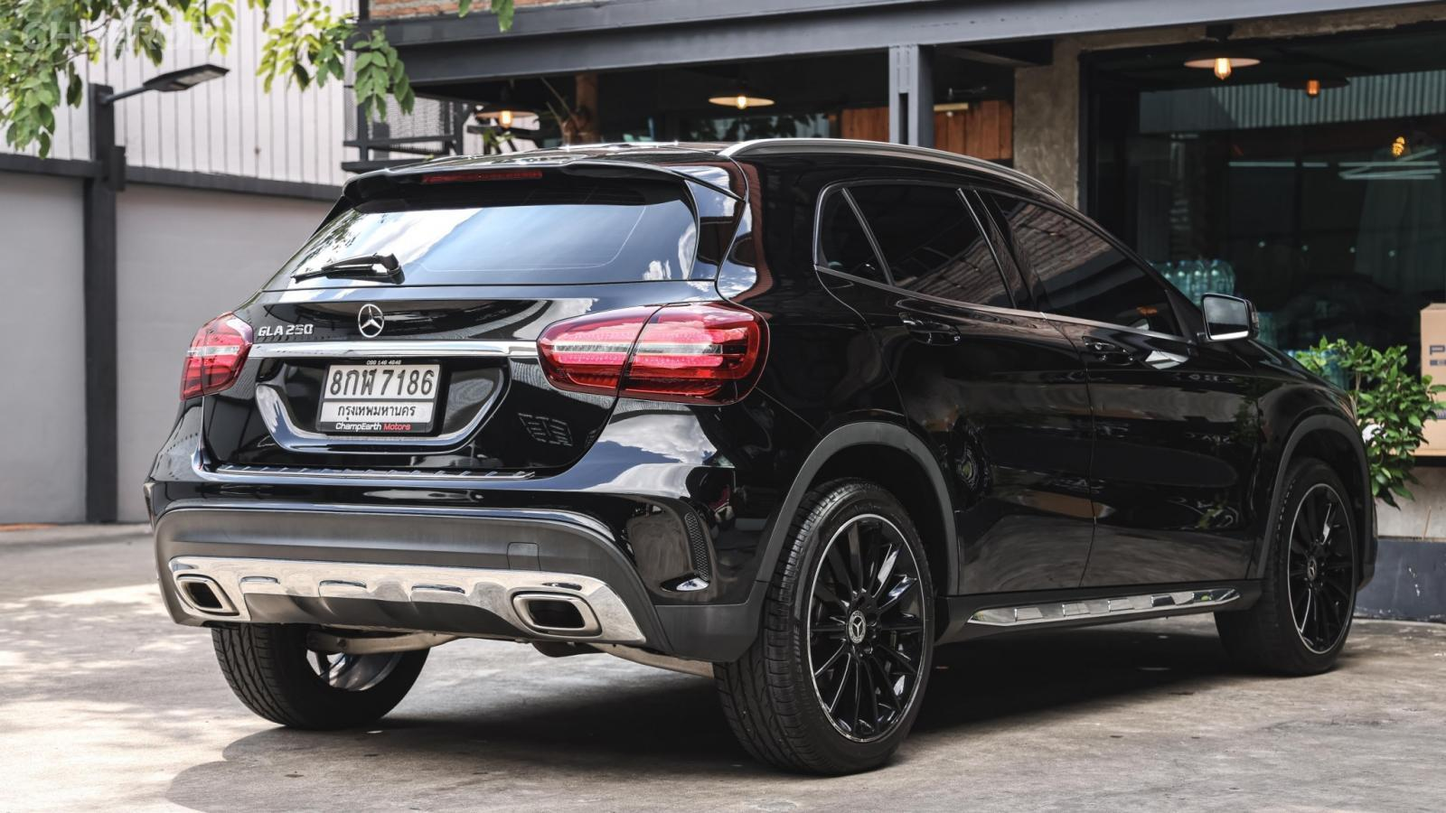license-plate: (314, 359, 443, 427)
